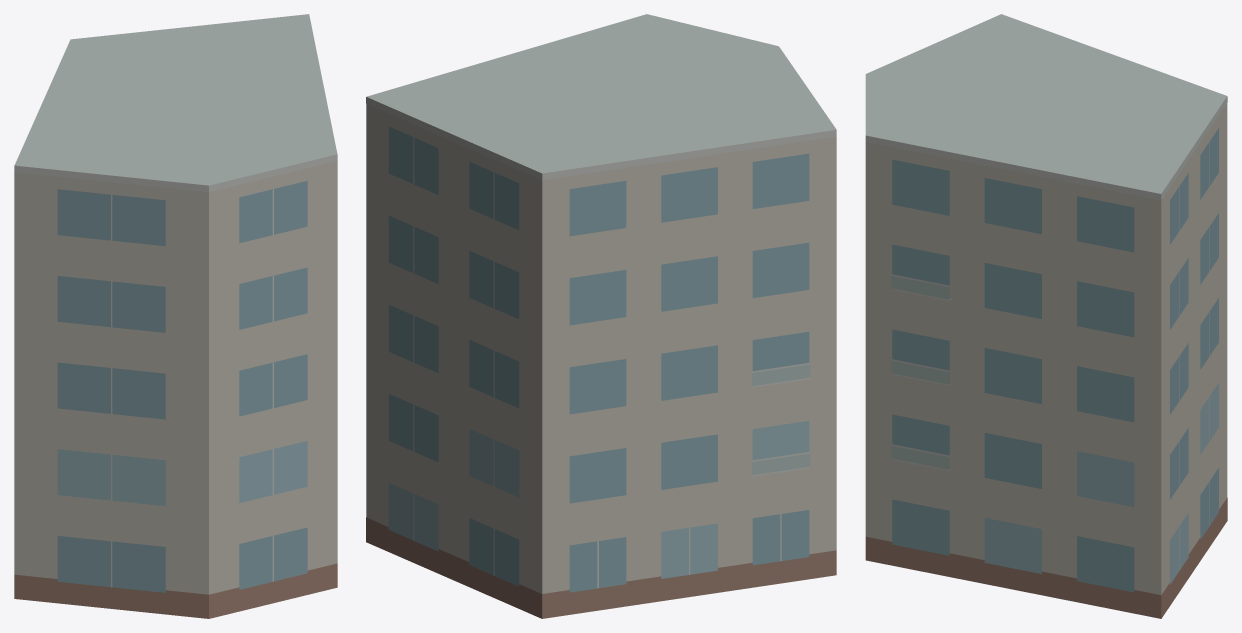
The model's file is survey-upis-33037393.glb.
3 views of the same model, side by side, from view 1: azimuth 30°, elevation 25°; view 2: azimuth 150°, elevation 25°; view 3: azimuth 270°, elevation 25° (orthographic). The views are drawn at different scales.
Visible parts, largest first — view 1: survey-upis-33037393.tmp; view 2: survey-upis-33037393.tmp; view 3: survey-upis-33037393.tmp.
Part boxes in pixels (x1,y1,x2,y2): survey-upis-33037393.tmp: [14, 14, 337, 618]; survey-upis-33037393.tmp: [366, 14, 836, 618]; survey-upis-33037393.tmp: [865, 14, 1227, 618].
Bounding box in the file's own units: 14.46 × 15.9 × 12.28.
